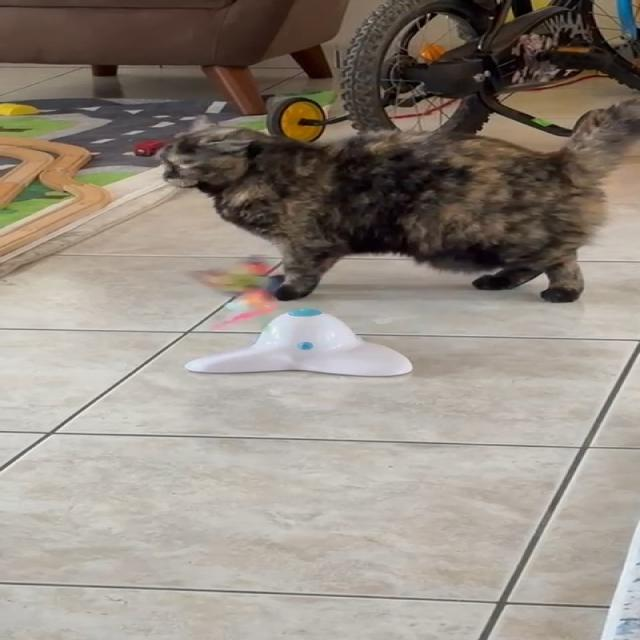authorized: (156, 98, 639, 304)
